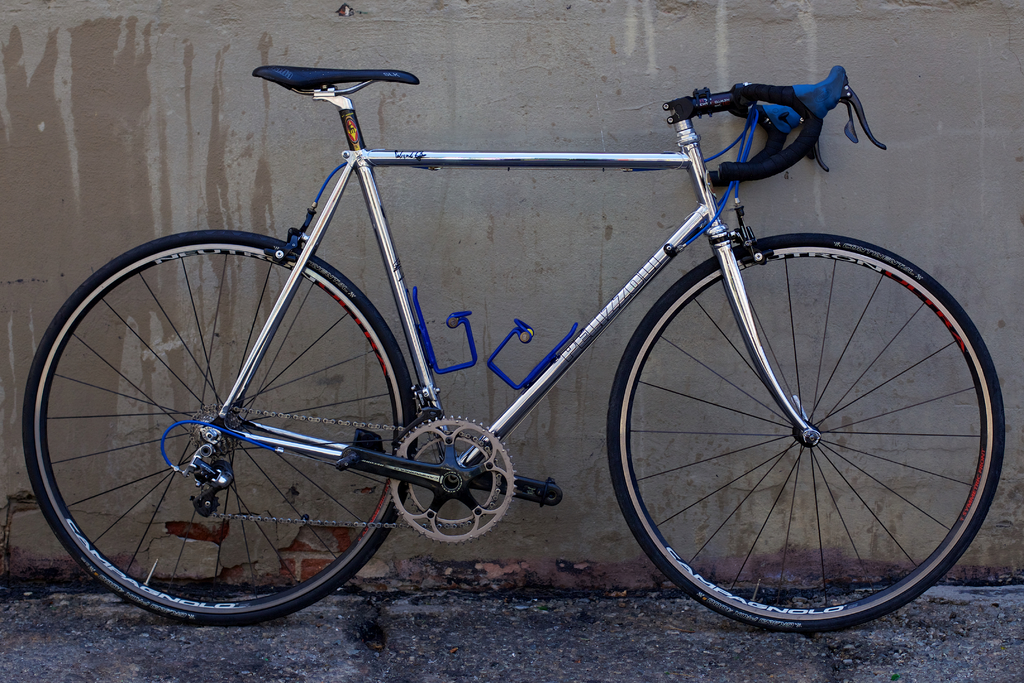Bike: (57, 66, 948, 638)
